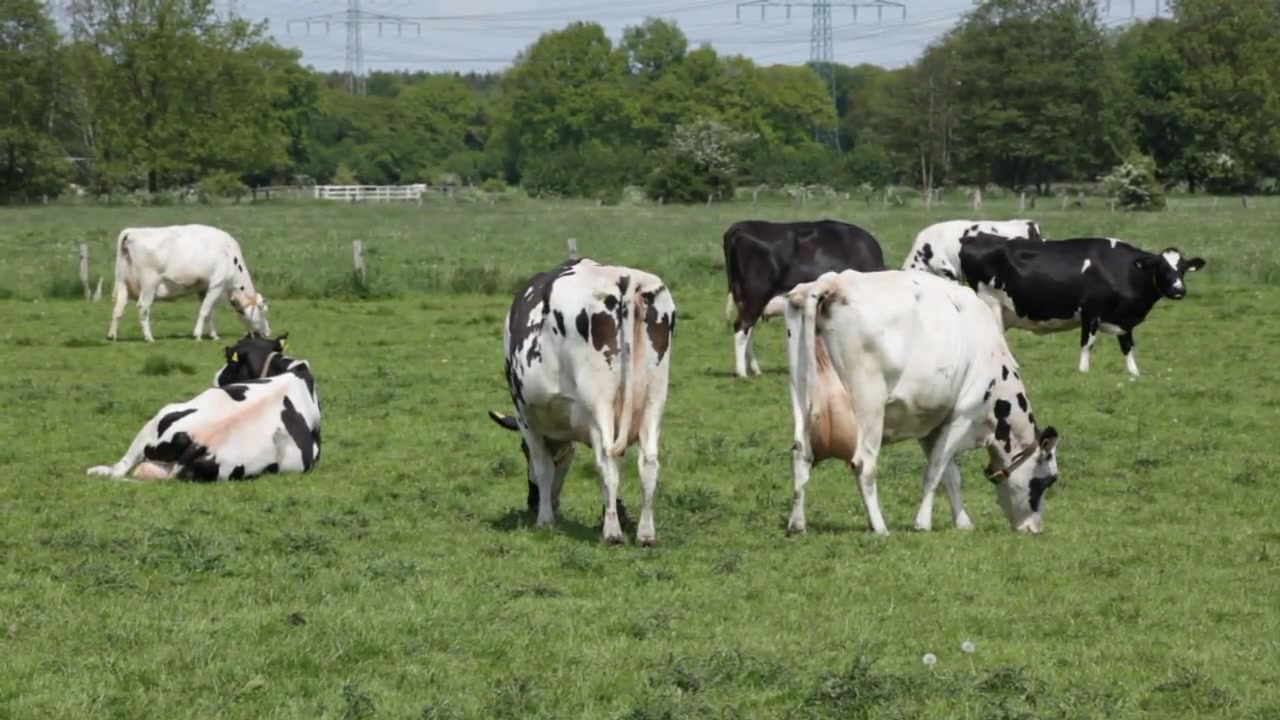cow: (483, 257, 680, 548)
